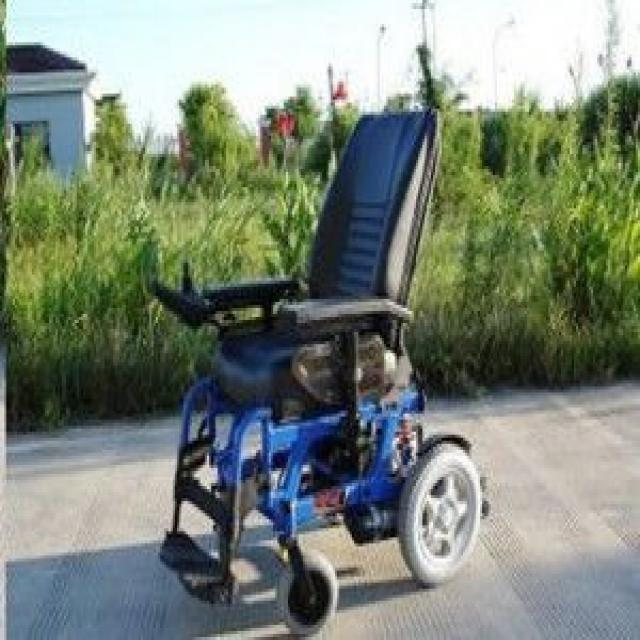wheelchair: (154, 102, 482, 638)
